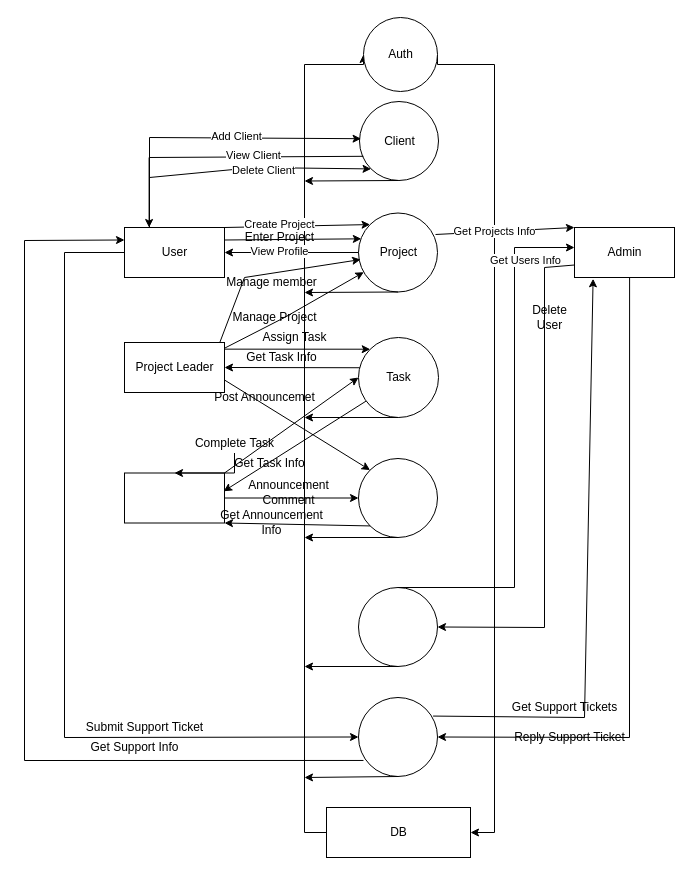
This 692x875 diagram has some shape labels left out. The shapes that lost their labels are listed below. From the top down, each one's centre as x and y in pixels, then its label:
At point 174,497: "Project Member".
At point 398,498: "Announcement".
At point 398,626: "Users".
At point 398,736: "Support".
